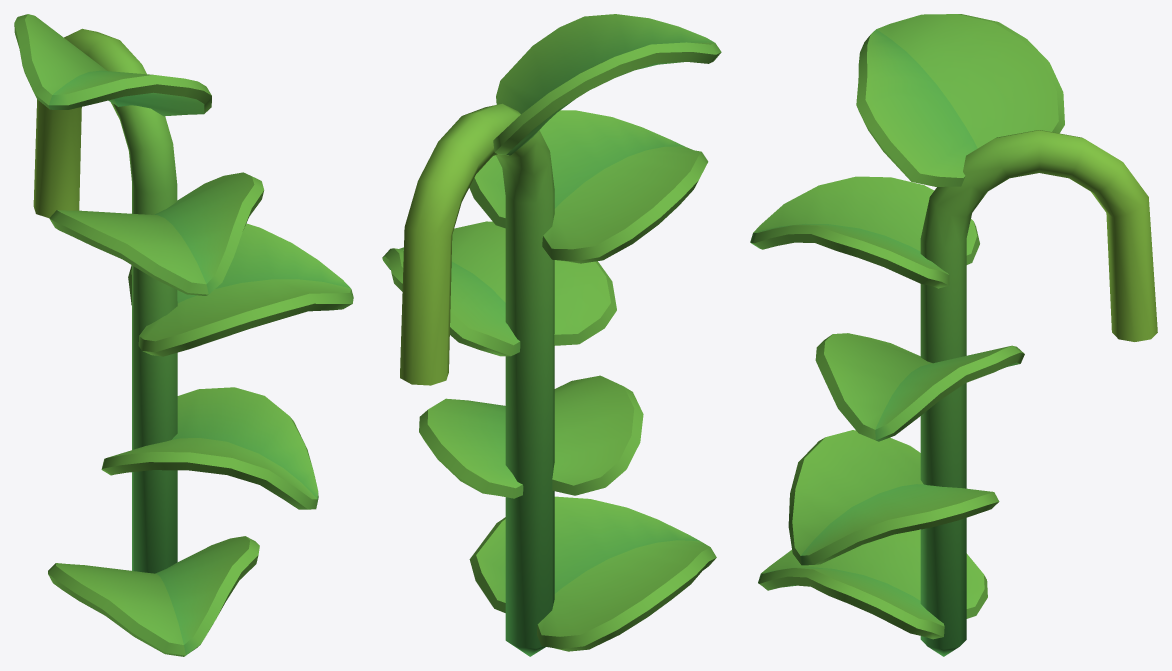
File: Pothos Vine Large C.glb
The picture shows the model from 3 angles, left to right: view 1: azimuth 30°, elevation 25°; view 2: azimuth 150°, elevation 25°; view 3: azimuth 270°, elevation 25°; orthographic projection. The views are drawn at different scales.
Parts seen in each view (by area): view 1: pothos_vine_large_C; view 2: pothos_vine_large_C; view 3: pothos_vine_large_C.
Part boxes in pixels (x1=…): pothos_vine_large_C: x1=14, y1=14, x2=353, y2=656; pothos_vine_large_C: x1=382, y1=14, x2=721, y2=656; pothos_vine_large_C: x1=750, y1=14, x2=1157, y2=656.
Size of the model in its own units: 0.7988 by 1.48 by 0.9333.
Materials: 1 (1 with a texture image).
